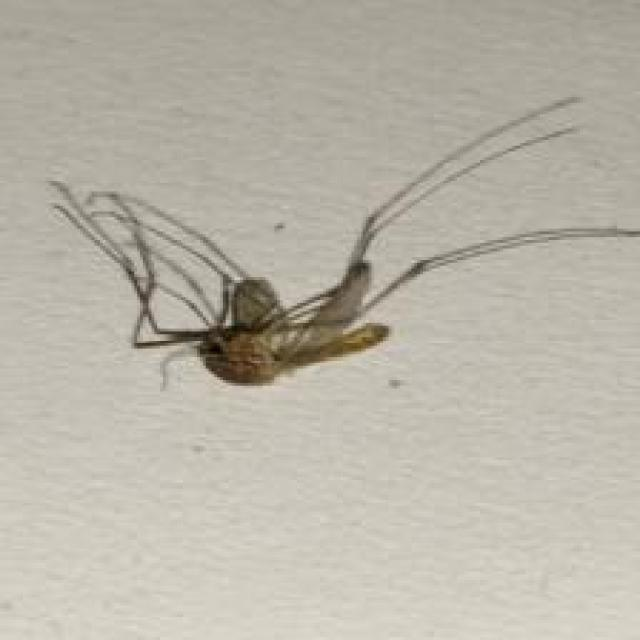Culex: (45, 91, 640, 391)
